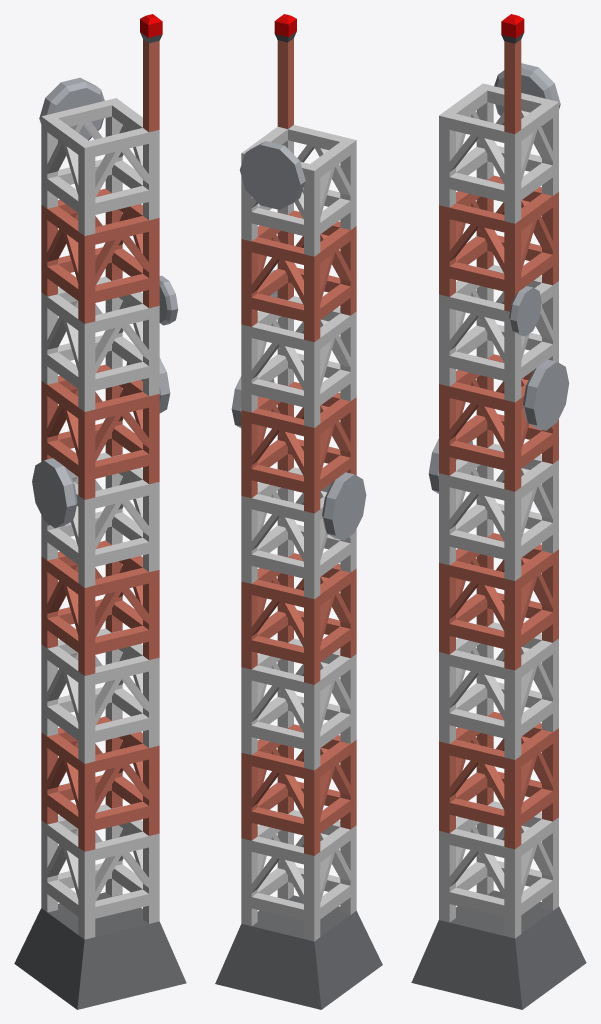
File: RadioTower.fbx
3 renders of one model, left to right at view 1: azimuth 30°, elevation 25°; view 2: azimuth 150°, elevation 25°; view 3: azimuth 330°, elevation 25°, orthographic. The views are drawn at different scales.
Visible parts, largest first — view 1: Radio_Tower; view 2: Radio_Tower; view 3: Radio_Tower.
Part boxes in pixels (x1,y1,x2,y2): Radio_Tower: (14,14,186,1009); Radio_Tower: (215,14,382,1009); Radio_Tower: (411,14,586,1009).
Size of the model in its own units: 3.5 by 29.45 by 3.5.
